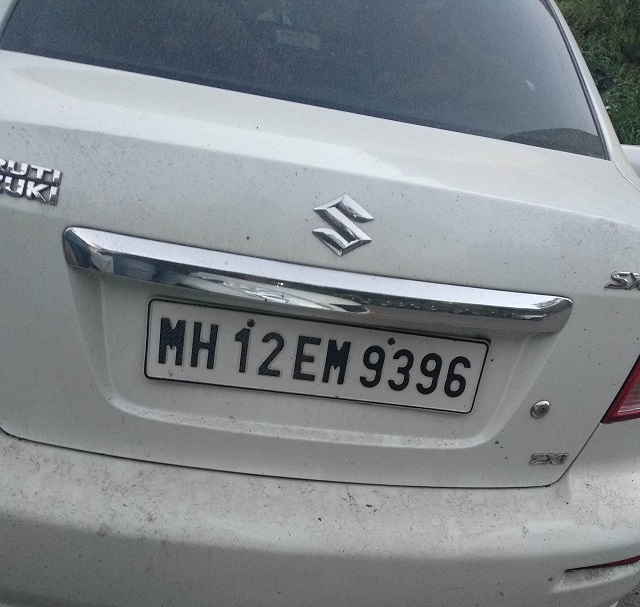licenseplate: (143, 290, 497, 433)
